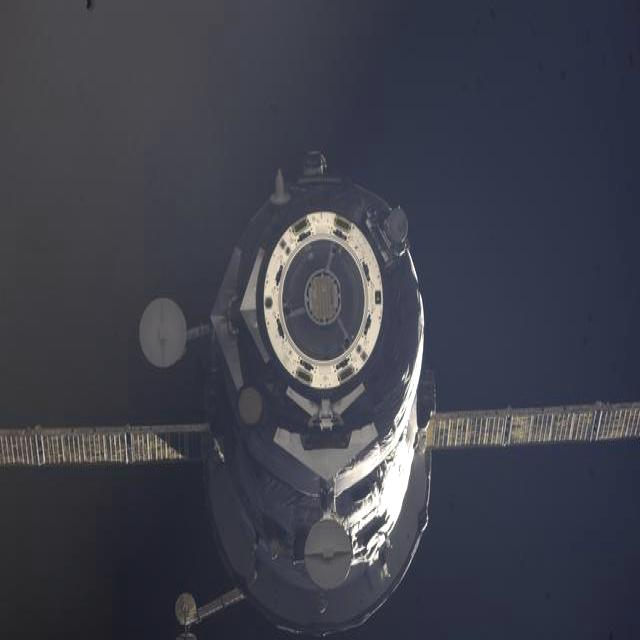satellite: (138, 154, 472, 612)
